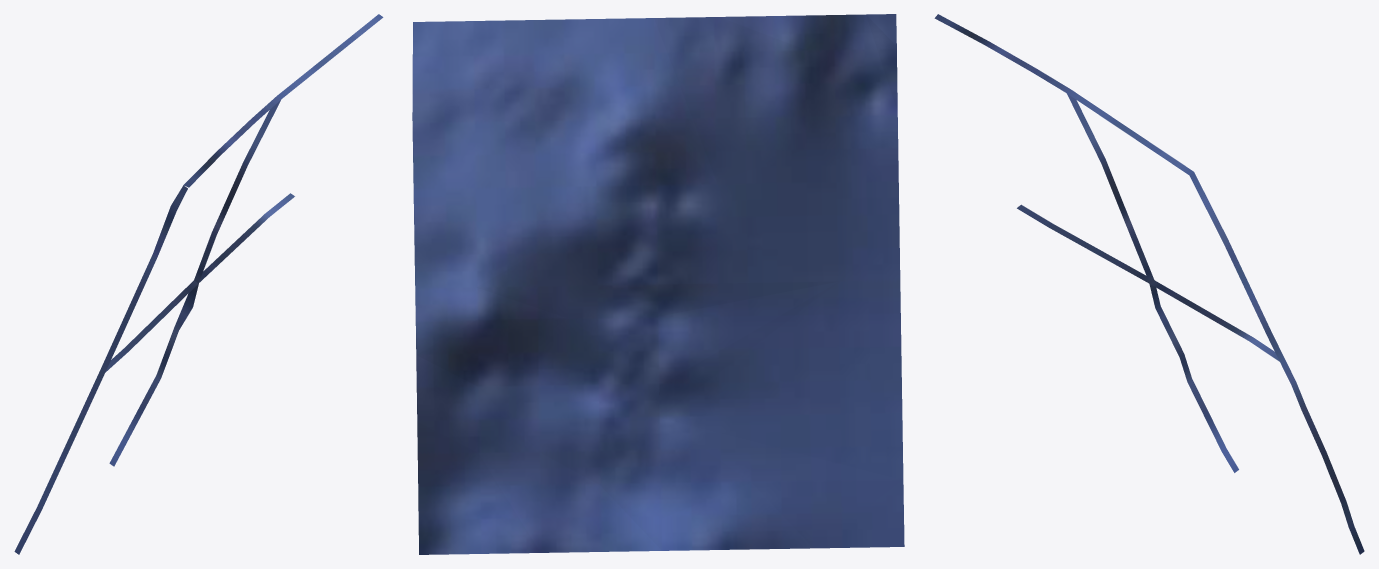
The picture shows the model from 3 angles, left to right: view 1: azimuth 30°, elevation 25°; view 2: azimuth 150°, elevation 25°; view 3: azimuth 270°, elevation 25°; orthographic projection. The views are drawn at different scales.
Bounding box in the file's own units: 19058 × 18333 × 16621.
Materials: 1 (1 with a texture image).
